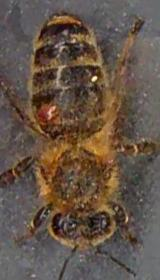varroa_mite: (38, 94, 64, 128)
